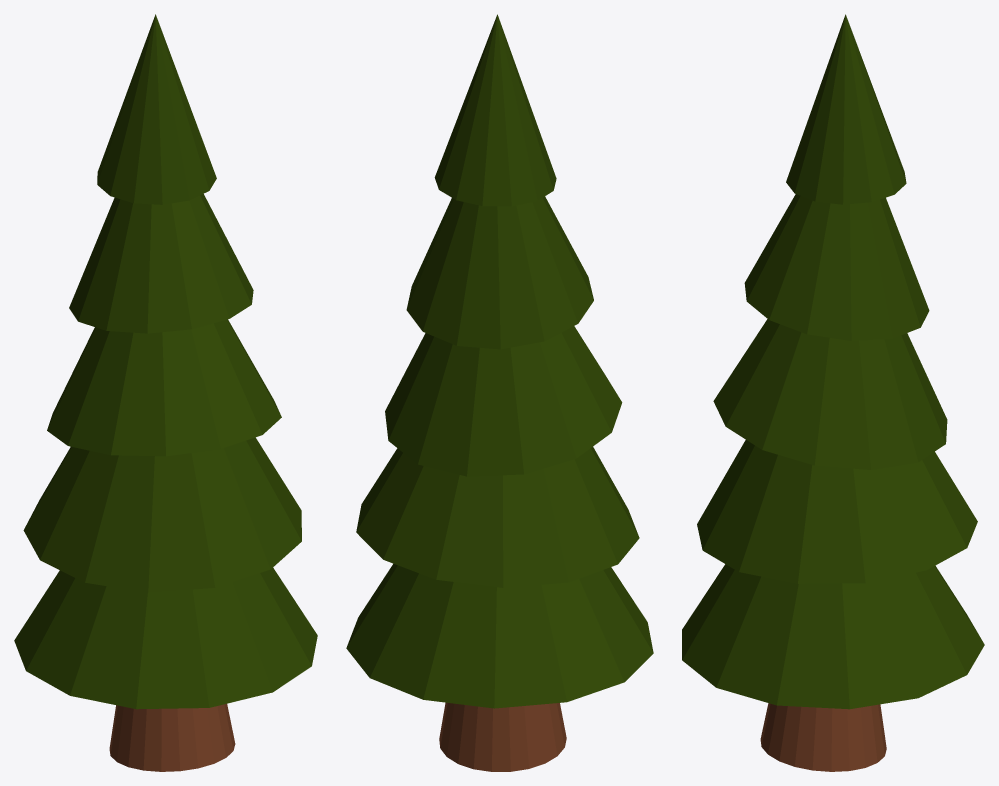
The model's file is tree01.glb.
The picture shows the model from 3 angles, left to right: view 1: azimuth 30°, elevation 25°; view 2: azimuth 150°, elevation 25°; view 3: azimuth 270°, elevation 25°; orthographic projection.
Parts seen in each view (by area): view 1: Tree 1.001; view 2: Tree 1.001; view 3: Tree 1.001.
Boxes of the visible parts, <box> form: Tree 1.001: <box>14,14,317,771</box>; Tree 1.001: <box>346,14,653,771</box>; Tree 1.001: <box>682,14,984,771</box>.
Bounding box in the file's own units: 4.9 × 13.01 × 4.87.
